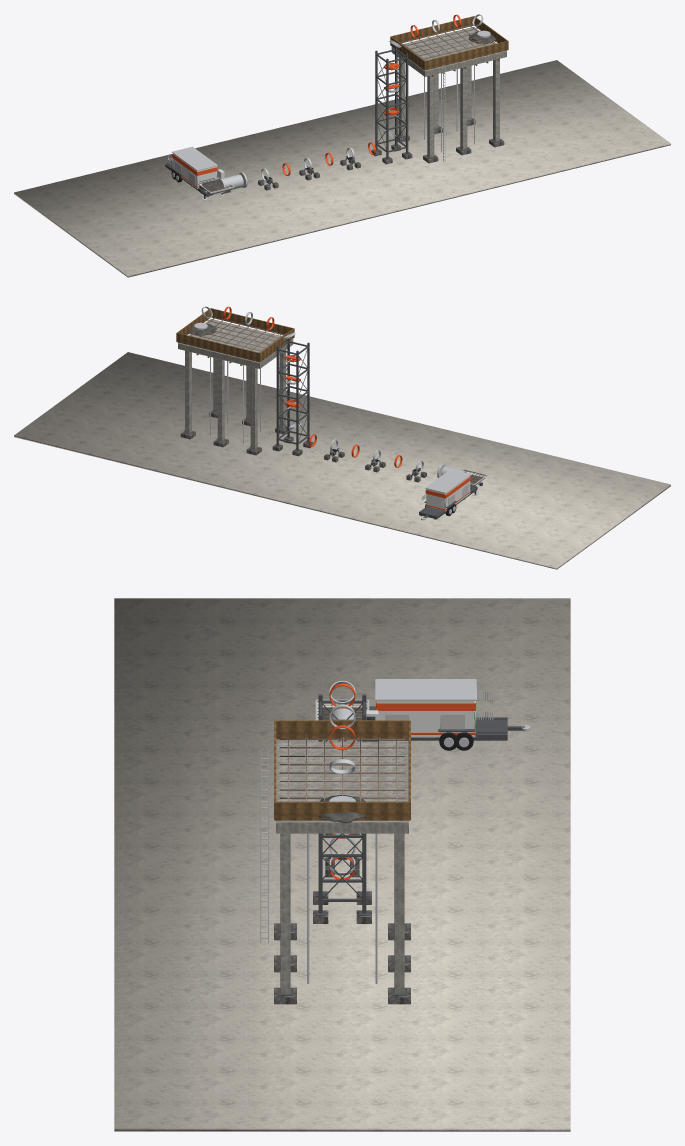
The model's file is om-group-pump-line.glb.
The picture shows the model from 3 angles, top to bottom: view 1: azimuth 30°, elevation 25°; view 2: azimuth 150°, elevation 25°; view 3: azimuth 270°, elevation 25°; orthographic projection. The views are drawn at different scales.
Parts seen in each view (by area): view 1: Ground, DeckConcrete, PumpSteel, Fittings, Formwork, Footings, Rebar, PumpOrange, PumpBody; view 2: Ground, DeckConcrete, PumpSteel, Formwork, Fittings, Footings, Rebar, PumpOrange, PumpBody; view 3: Ground, DeckConcrete, Fittings, Formwork, PumpSteel, Rebar, Footings, PumpOrange, PumpBody.
Part boxes in pixels (x1,y1,x2,y2): Ground: [14, 60, 670, 277]; DeckConcrete: [391, 27, 506, 157]; PumpSteel: [165, 46, 501, 198]; Fittings: [167, 14, 493, 200]; Formwork: [390, 16, 508, 76]; Footings: [258, 118, 504, 190]; Rebar: [199, 24, 497, 191]; PumpOrange: [172, 14, 461, 187]; PumpBody: [173, 153, 216, 188]; Ground: [14, 352, 670, 569]; DeckConcrete: [178, 319, 293, 449]; PumpSteel: [183, 338, 482, 519]; Formwork: [176, 308, 294, 368]; Fittings: [191, 306, 487, 520]; Footings: [180, 410, 426, 482]; Rebar: [187, 316, 485, 483]; PumpOrange: [223, 306, 470, 510]; PumpBody: [426, 476, 470, 511]; Ground: [114, 598, 570, 1131]; DeckConcrete: [276, 741, 408, 993]; Fittings: [260, 679, 530, 983]; Formwork: [274, 720, 410, 820]; PumpSteel: [277, 694, 524, 995]; Rebar: [279, 701, 405, 801]; Footings: [274, 833, 410, 1004]; PumpOrange: [329, 683, 475, 879]; PumpBody: [376, 701, 475, 737].
Size of the model in its own units: 66 by 14.68 by 24.
17 materials, 5 textured.
